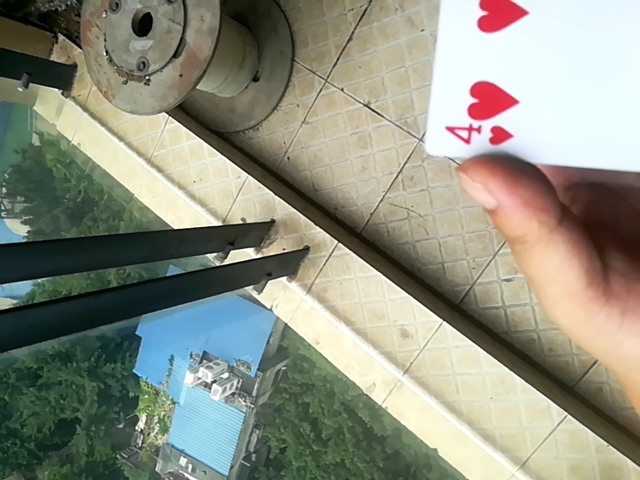hx 4: (422, 0, 638, 188)
